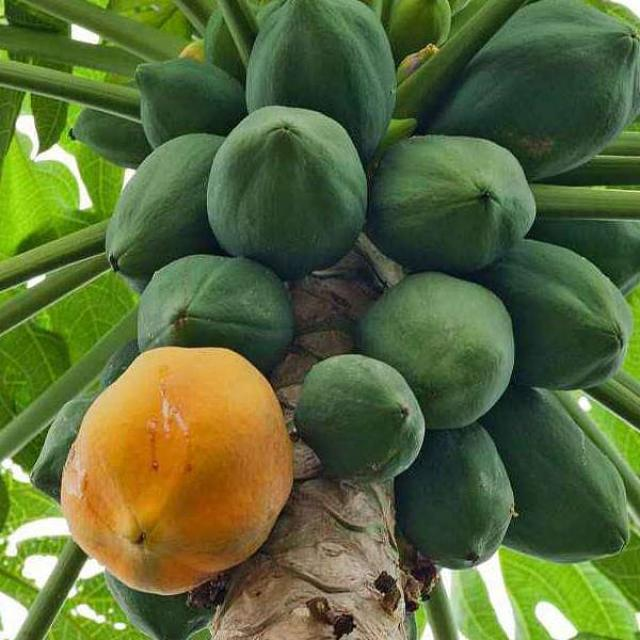Pepaya rippen: (59, 338, 303, 594)
Pepaya unrippen: (468, 1, 639, 171), (225, 97, 367, 260), (511, 410, 634, 570), (389, 130, 532, 265), (370, 274, 515, 407), (303, 351, 448, 483), (516, 250, 633, 387), (102, 132, 216, 260), (422, 444, 520, 574)
